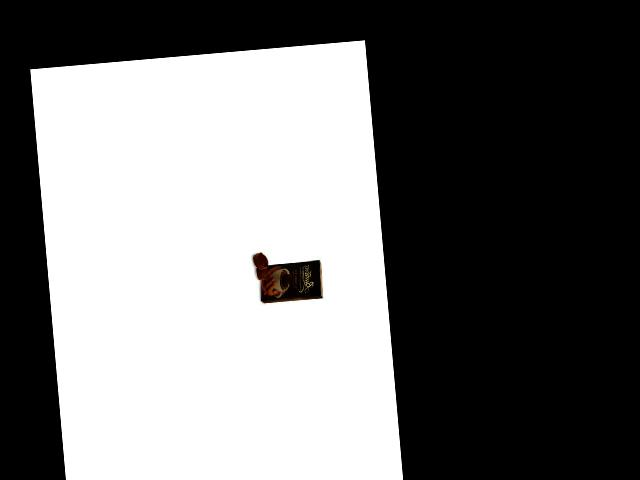chocolate: (255, 254, 326, 306)
